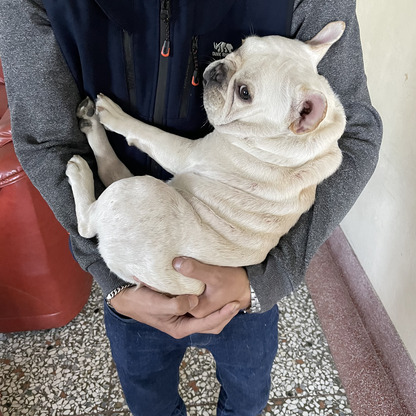bulldog: (66, 17, 355, 297)
